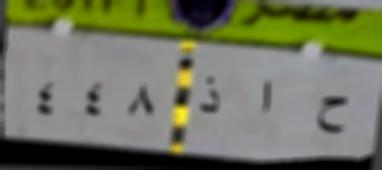4: (82, 76, 106, 124), (33, 78, 60, 120)
7aa: (314, 90, 350, 140)
8: (126, 81, 155, 122)
alif: (253, 77, 279, 118)
zaal: (200, 72, 223, 120)
